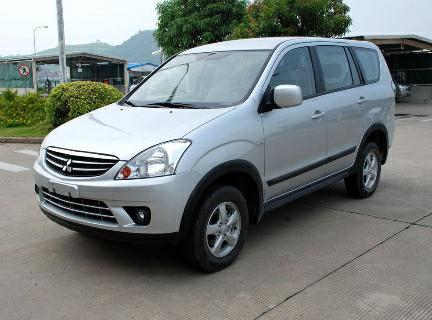三菱-君阁: (28, 32, 402, 274)
